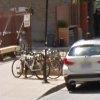Bicycle: (9, 43, 63, 86)
